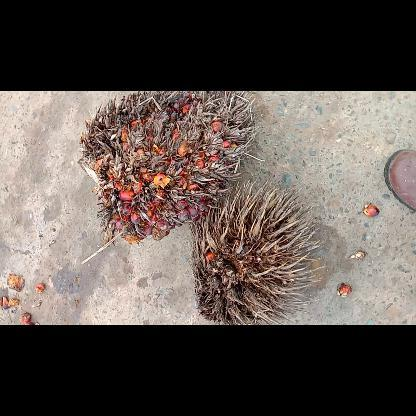Janjang kosong: (186, 176, 324, 324)
Terlalu masak: (78, 91, 258, 263)
